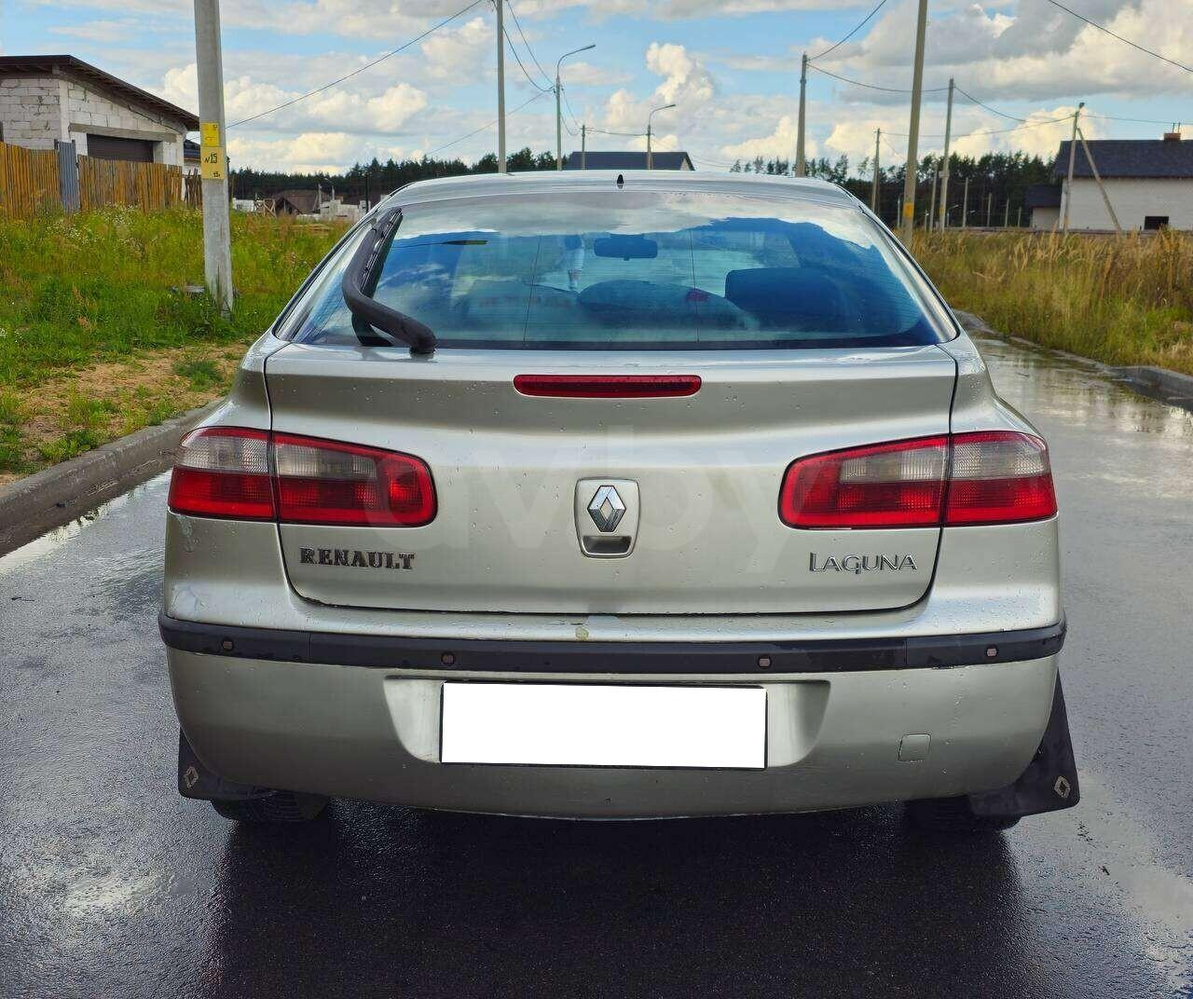Laguna_2001-2005: (159, 170, 1078, 832)
